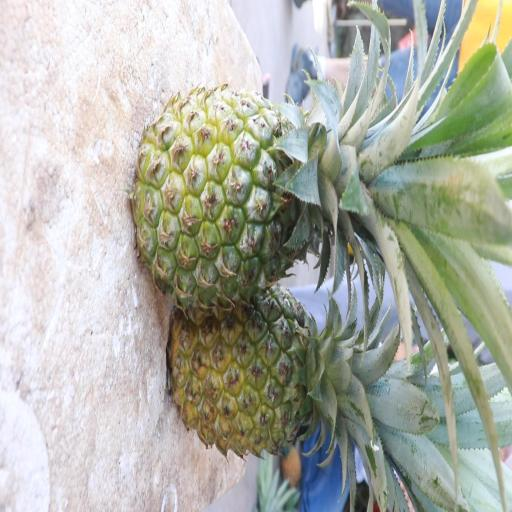------------------------------: (140, 78, 369, 294)
Pineapple - v8 v1: (165, 298, 386, 453)
